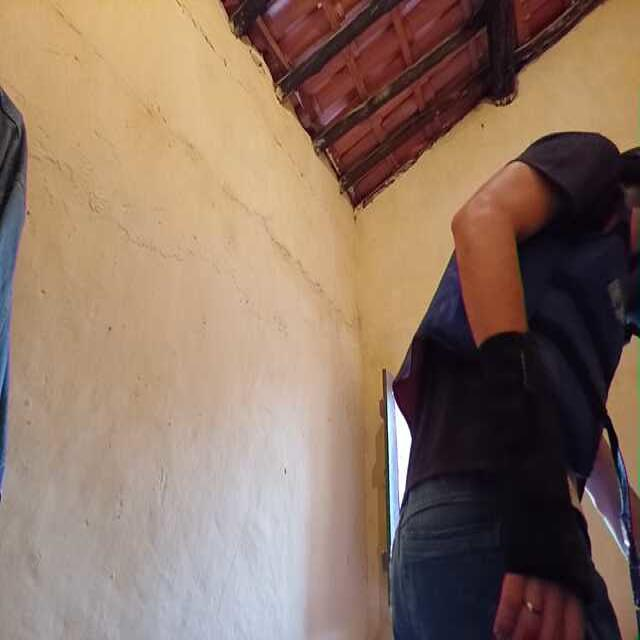capacete: (619, 142, 640, 202)
colete: (413, 187, 618, 462)
pessoa: (386, 117, 640, 640)
